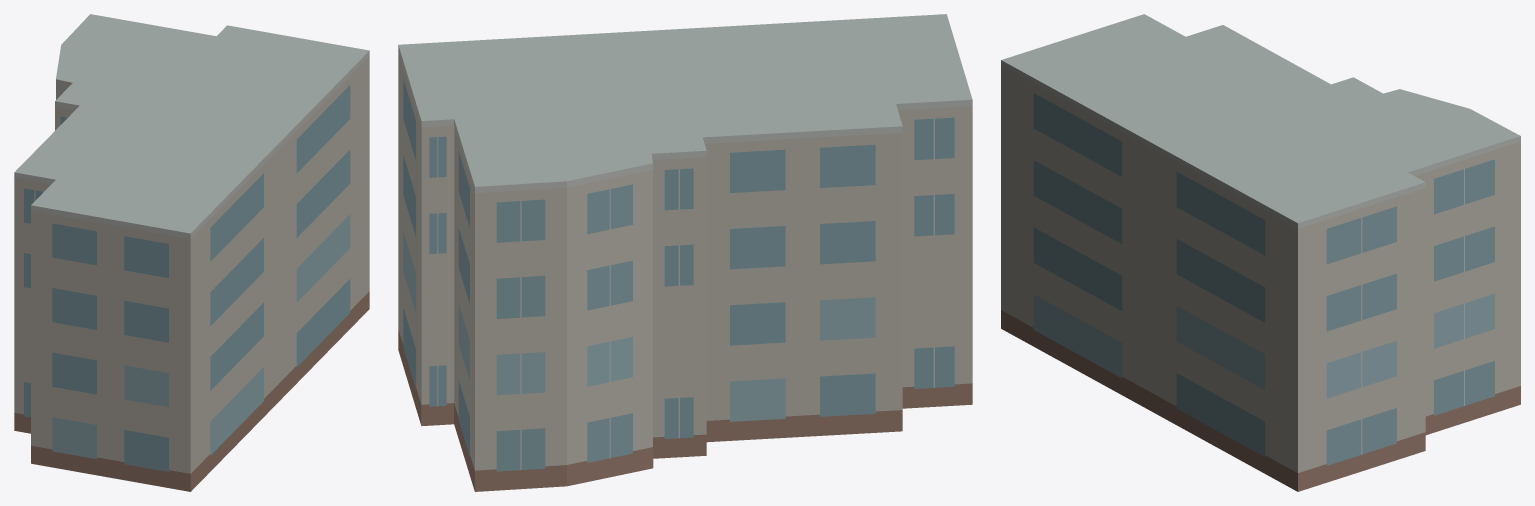
Rendered from survey-upis-32799805.glb.
3 views of the same model, side by side, from view 1: azimuth 30°, elevation 25°; view 2: azimuth 150°, elevation 25°; view 3: azimuth 270°, elevation 25° (orthographic). The views are drawn at different scales.
Visible parts, largest first — view 1: survey-upis-32799805.tmp; view 2: survey-upis-32799805.tmp; view 3: survey-upis-32799805.tmp.
Boxes of the visible parts, x1,y1,x2,y2 form: survey-upis-32799805.tmp: [14, 14, 369, 491]; survey-upis-32799805.tmp: [398, 14, 972, 491]; survey-upis-32799805.tmp: [1001, 14, 1520, 491].
Bounding box in the file's own units: 19.56 × 11.7 × 20.53.
